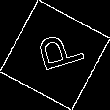P_W: (26, 30, 84, 80)
